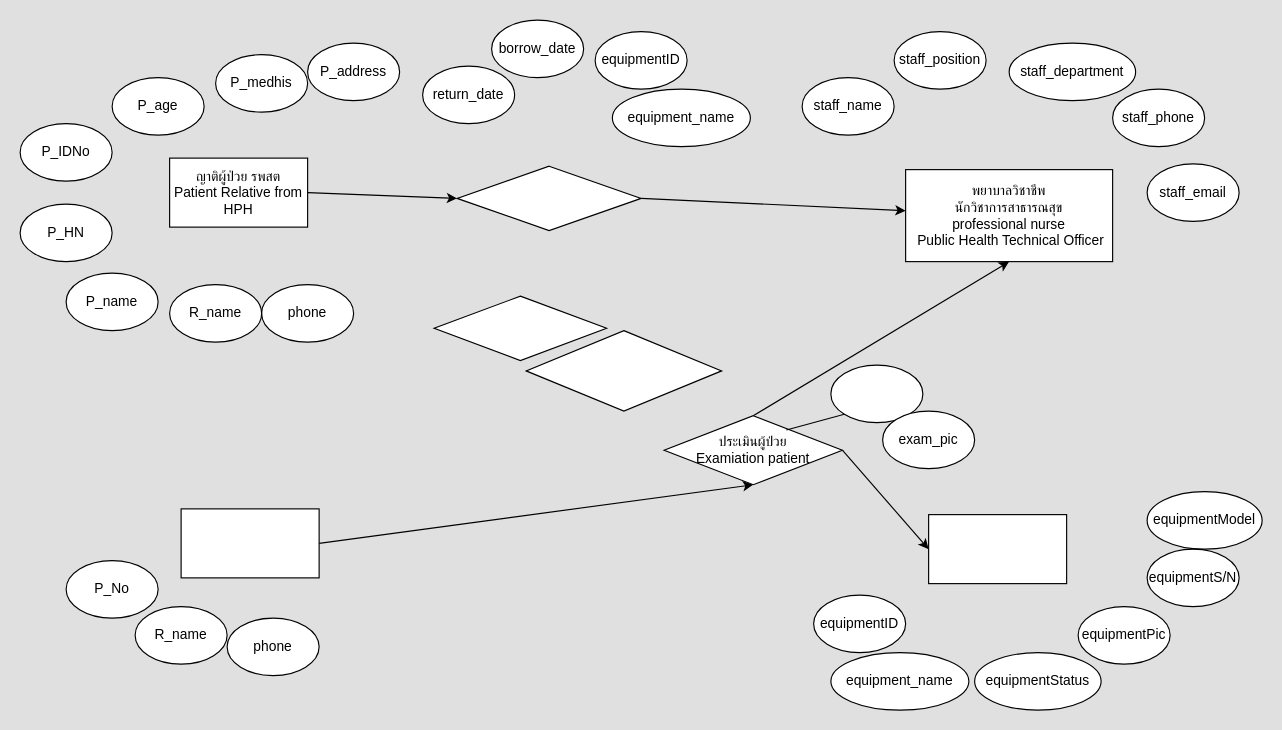
The diagram is 1282 pixels wide and 730 high, and some of its shapes have lost their labels. The shapes that lost their labels are listed below. From the top down, each one's centre as x and y in pixels, then its label:
point (548, 198): ลงทะเบียนยืม Register contract
point (520, 328): อนุมัติการยืมอุปกรณ์ allow to borrow
point (623, 370): ส่งหนังสือต่อสัญญาอุปกรณ์ extend the contract
point (876, 393): exam_result
point (249, 543): ญาติผู้ป่วย รพ อื่นๆ Patient Relative from Hospital
point (997, 548): อุปกรณ์ทางการแพทย์ medical equipment
